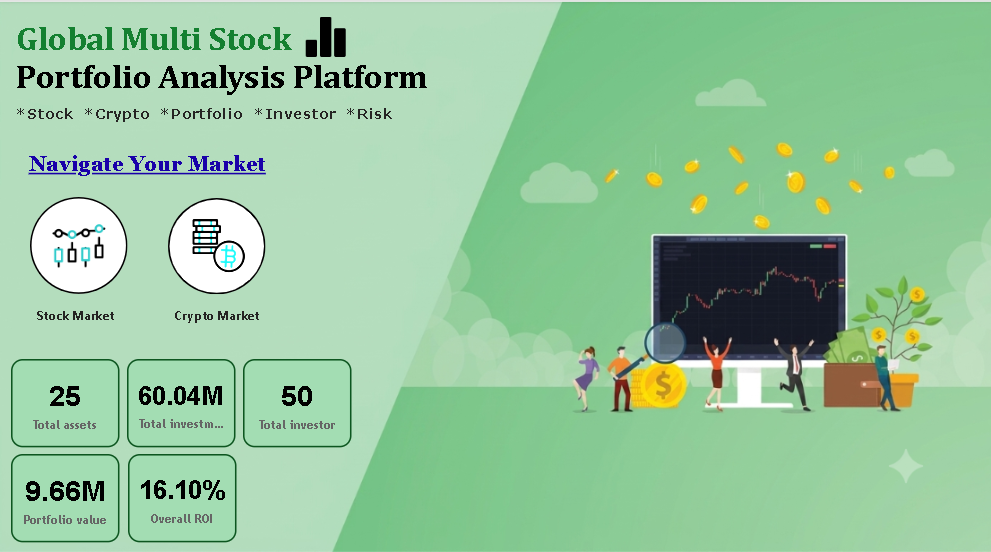

The dashboard page shown, as its layout file describes it:
{"tool":"powerbi","page":{"name":"Home page","canvas":[1280,720],"ordinal":0},"visuals":[{"type":"group","id":"g1","title":"Group 1","box":[0,17.9,1280,681.4],"z":0},{"type":"shape","box":[216.9,255,125.8,124.3],"z":0,"group":"g1"},{"type":"shape","box":[39,253.6,125.8,125],"z":1000,"group":"g1"},{"type":"actionButton","box":[51.6,273.5,100.6,89],"z":1000},{"type":"textbox","box":[0,17.9,1280,128.8],"z":2000,"group":"g1"},{"type":"actionButton","box":[40,391,120,33.5],"z":2000},{"type":"textbox","box":[0,128.8,1278.4,40.8],"z":3000,"group":"g1"},{"type":"actionButton","box":[219.4,391,120,33.5],"z":3000},{"type":"textbox","box":[0,190.7,1278.4,44],"z":4000,"group":"g1"},{"type":"actionButton","box":[232.3,273.5,91.6,89],"z":4000},{"type":"card","fields":{"Values":["Measure.Total assets"]},"box":[14.5,463.5,140.2,114.2],"z":5000,"group":"g1"},{"type":"card","fields":{"Values":["Measure.Portfolio value"]},"box":[14.5,585.1,140.2,114.2],"z":6000,"group":"g1"},{"type":"image","box":[235.7,276.7,88.2,83.9],"z":7000,"group":"g1"},{"type":"card","fields":{"Values":["Measure.Total investor"]},"box":[313.7,463.5,140,114.2],"z":8000,"group":"g1"},{"type":"textbox","box":[37.6,390.9,125.8,33.3],"z":9000,"group":"g1"},{"type":"card","fields":{"Values":["Measure.Total investment"]},"box":[163.4,463.5,140.2,114.2],"z":10000,"group":"g1"},{"type":"textbox","box":[202.4,390.9,156.1,33.3],"z":11000,"group":"g1"},{"type":"card","fields":{"Values":["Measure.Overall ROI"]},"box":[164.8,585.1,140.2,114],"z":12000,"group":"g1"},{"type":"image","box":[56.4,273.8,89.6,83.9],"z":13000,"group":"g1"},{"type":"image","box":[358.6,17.9,122.9,59.3],"z":14000,"group":"g1"}]}

Visuals, with their boxes in screenshot pixels (x1, y1, x2, y2), scaled from the page's 1280x720 canvas onto the 991x552 screenshot:
"Group 1" group: [0,14,990,536]
shape: [168,196,265,291]
shape: [30,194,128,290]
actionButton: [40,210,118,278]
textbox: [0,14,990,112]
actionButton: [31,300,124,325]
textbox: [0,99,990,130]
actionButton: [170,300,263,325]
textbox: [0,146,990,180]
actionButton: [180,210,251,278]
card - Measure.Total assets: [11,355,120,443]
card - Measure.Portfolio value: [11,449,120,536]
image: [182,212,251,276]
card - Measure.Total investor: [243,355,351,443]
textbox: [29,300,127,325]
card - Measure.Total investment: [127,355,235,443]
textbox: [157,300,278,325]
card - Measure.Overall ROI: [128,449,236,536]
image: [44,210,113,274]
image: [278,14,373,59]
